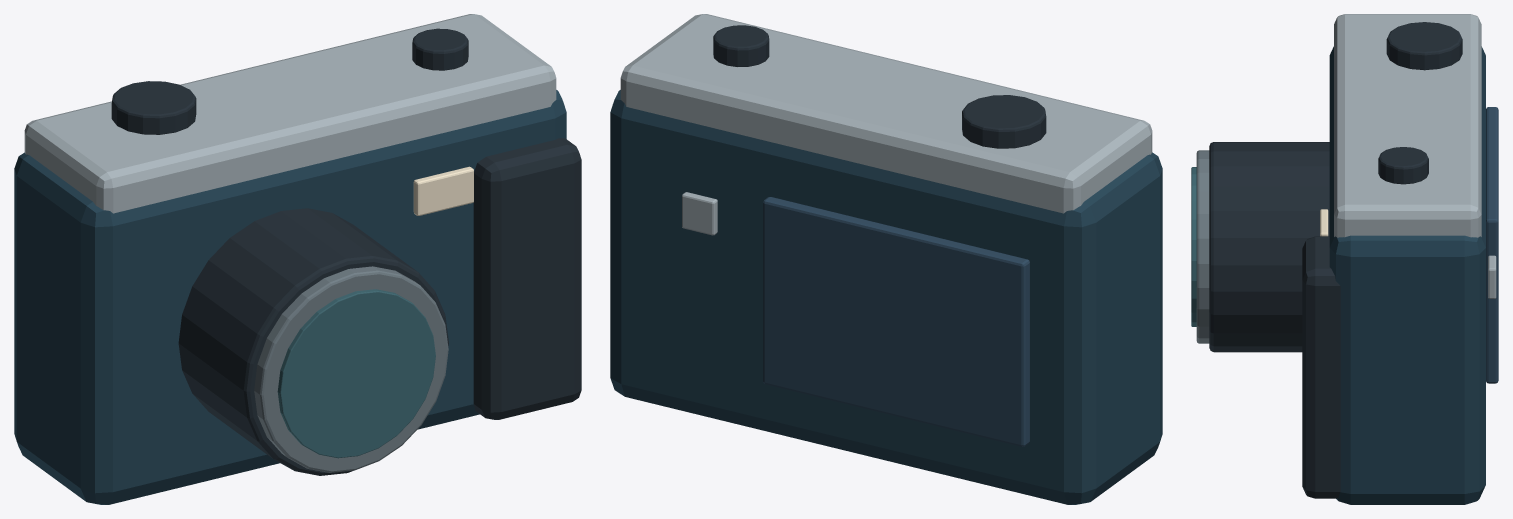
File: compact_camera.glb
3 views of the same model, side by side, from view 1: azimuth 30°, elevation 25°; view 2: azimuth 150°, elevation 25°; view 3: azimuth 270°, elevation 25° (orthographic). The views are drawn at different scales.
Parts seen in each view (by area): view 1: MESH_compact_camera; view 2: MESH_compact_camera; view 3: MESH_compact_camera.
Boxes of the visible parts, x1,y1,x2,y2 form: MESH_compact_camera: (14,14,581,504); MESH_compact_camera: (610,14,1162,504); MESH_compact_camera: (1191,14,1498,504).
Bounding box in the file's own units: 0.118 × 0.0825 × 0.0728.
